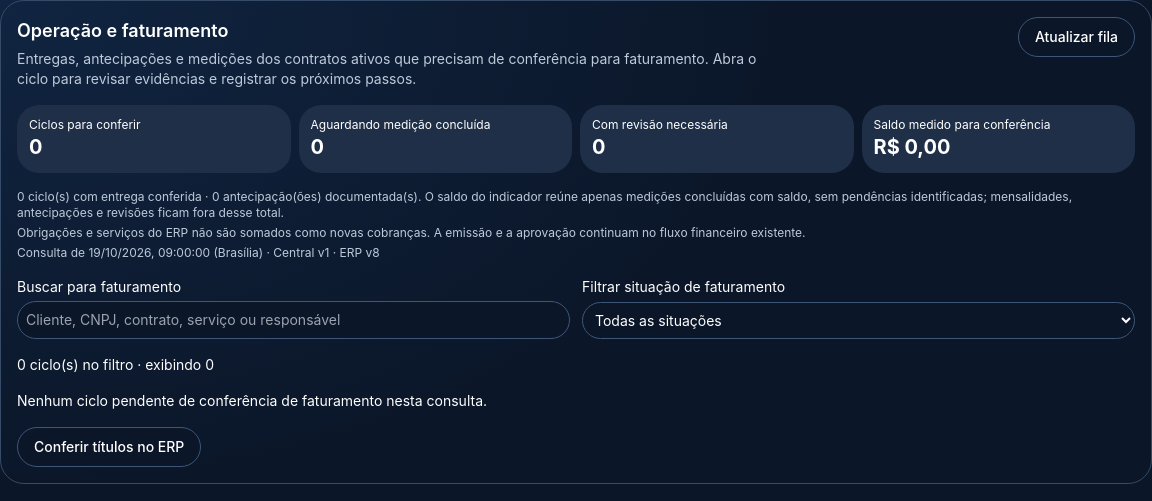
Scenario: billing handoff view › distinguishes an empty successful query from a failed query
The image size is (1152, 501).
Step 1. Click the button "Atualizar fila" → (1076, 37), box [1018, 17, 1135, 57]
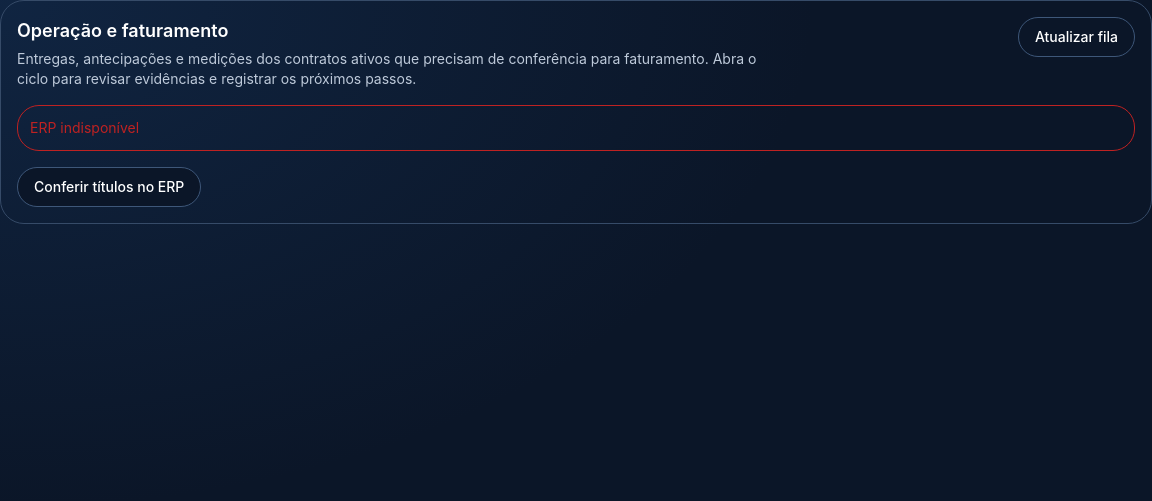
Expected: the message "ERP indisponível" is shown, [17, 105, 1135, 151]
Expected: the text "Nenhum ciclo pendente" is gone
Expected: the text "Saldo medido para conferência" is gone
